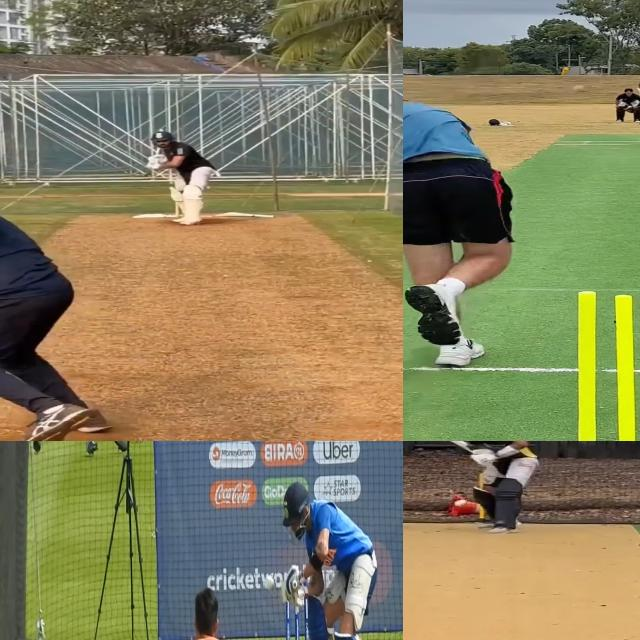Cricket ball: (263, 573, 276, 595), (570, 84, 592, 96), (454, 500, 468, 508), (454, 500, 467, 507)
Stumps: (554, 287, 640, 441), (283, 602, 311, 640)
